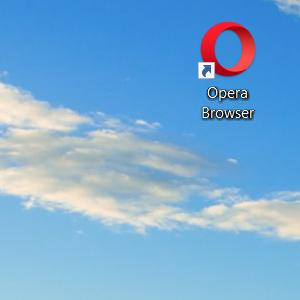opera: (198, 21, 256, 80)
